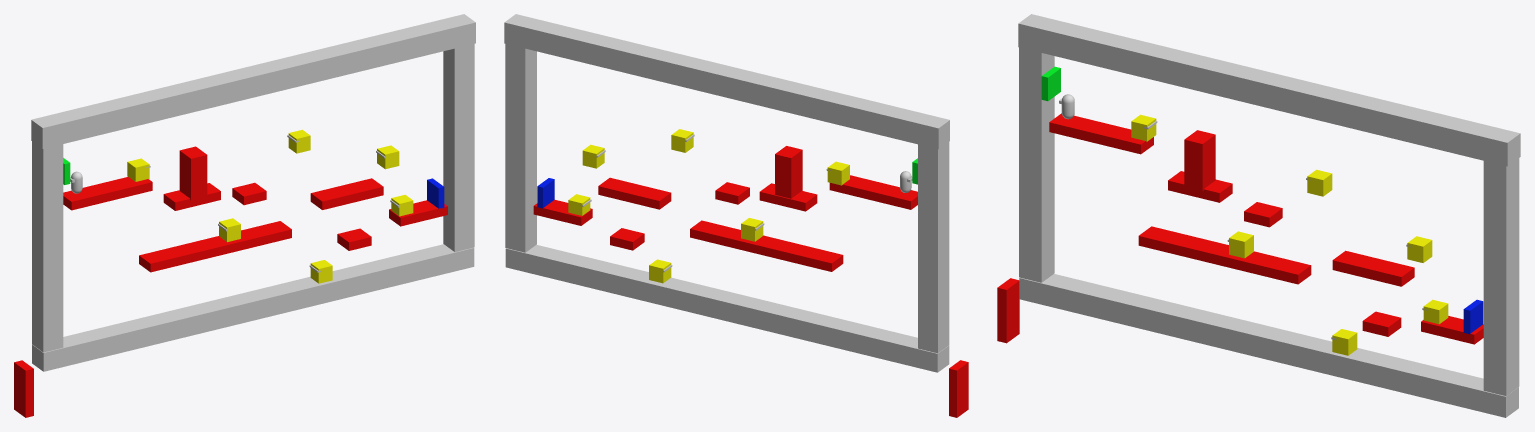
The model's file is escena3.fbx.
The picture shows the model from 3 angles, left to right: view 1: azimuth 30°, elevation 25°; view 2: azimuth 150°, elevation 25°; view 3: azimuth 330°, elevation 25°; orthographic projection. The views are drawn at different scales.
Parts seen in each view (by area): view 1: Cube__2_, Cube_3, Cube__4_, Cube__3_, Inicio__4_, Inicio__9_, Inicio__10_, Inicio__1_, Inicio__5_, Inicio__6_, Inicio__8_, Inicio__3_ (+7 smaller); view 2: Cube__2_, Cube_3, Cube__4_, Cube__3_, Inicio__4_, Inicio__9_, Inicio__1_, Inicio__10_, Inicio__5_, Inicio__8_, Inicio__6_, Inicio__7_ (+7 smaller); view 3: Cube__2_, Cube_3, Cube__3_, Cube__4_, Inicio__4_, Inicio__9_, Inicio__10_, Inicio__1_, Inicio__5_, Inicio__6_, Inicio__8_, Inicio__7_ (+9 smaller).
Boxes of the visible parts, left/top/right/bottom form: Cube__2_: left=31, top=14, right=475, bottom=148; Cube_3: left=32, top=244, right=474, bottom=371; Cube__4_: left=32, top=140, right=63, bottom=352; Cube__3_: left=443, top=43, right=474, bottom=251; Inicio__4_: left=139, top=221, right=291, bottom=272; Inicio__9_: left=63, top=177, right=152, bottom=210; Inicio__10_: left=179, top=146, right=207, bottom=200; Inicio__1_: left=310, top=178, right=383, bottom=209; Inicio__5_: left=14, top=360, right=33, bottom=417; Inicio__6_: left=389, top=200, right=447, bottom=226; Inicio__8_: left=163, top=183, right=220, bottom=210; Inicio__3_: left=232, top=182, right=266, bottom=205; Cube__2_: left=504, top=14, right=949, bottom=149; Cube_3: left=505, top=244, right=949, bottom=372; Cube__4_: left=918, top=140, right=949, bottom=353; Cube__3_: left=505, top=44, right=536, bottom=252; Inicio__4_: left=690, top=220, right=843, bottom=271; Inicio__9_: left=829, top=175, right=917, bottom=209; Inicio__1_: left=598, top=177, right=671, bottom=209; Inicio__10_: left=775, top=146, right=802, bottom=198; Inicio__5_: left=949, top=360, right=968, bottom=417; Inicio__8_: left=759, top=183, right=817, bottom=211; Inicio__6_: left=533, top=200, right=592, bottom=225; Inicio__7_: left=610, top=228, right=644, bottom=250; Cube__2_: left=1018, top=14, right=1520, bottom=166; Cube_3: left=1019, top=274, right=1518, bottom=417; Cube__3_: left=1483, top=158, right=1519, bottom=395; Cube__4_: left=1019, top=44, right=1054, bottom=282; Inicio__4_: left=1138, top=226, right=1311, bottom=284; Inicio__9_: left=1049, top=113, right=1153, bottom=154; Inicio__10_: left=1184, top=130, right=1215, bottom=191; Inicio__1_: left=1332, top=250, right=1414, bottom=286; Inicio__5_: left=997, top=278, right=1019, bottom=343; Inicio__6_: left=1421, top=316, right=1483, bottom=344; Inicio__8_: left=1168, top=171, right=1232, bottom=202; Inicio__7_: left=1362, top=311, right=1401, bottom=336.
Bounding box in the file's own units: 2253 × 1361 × 107.
